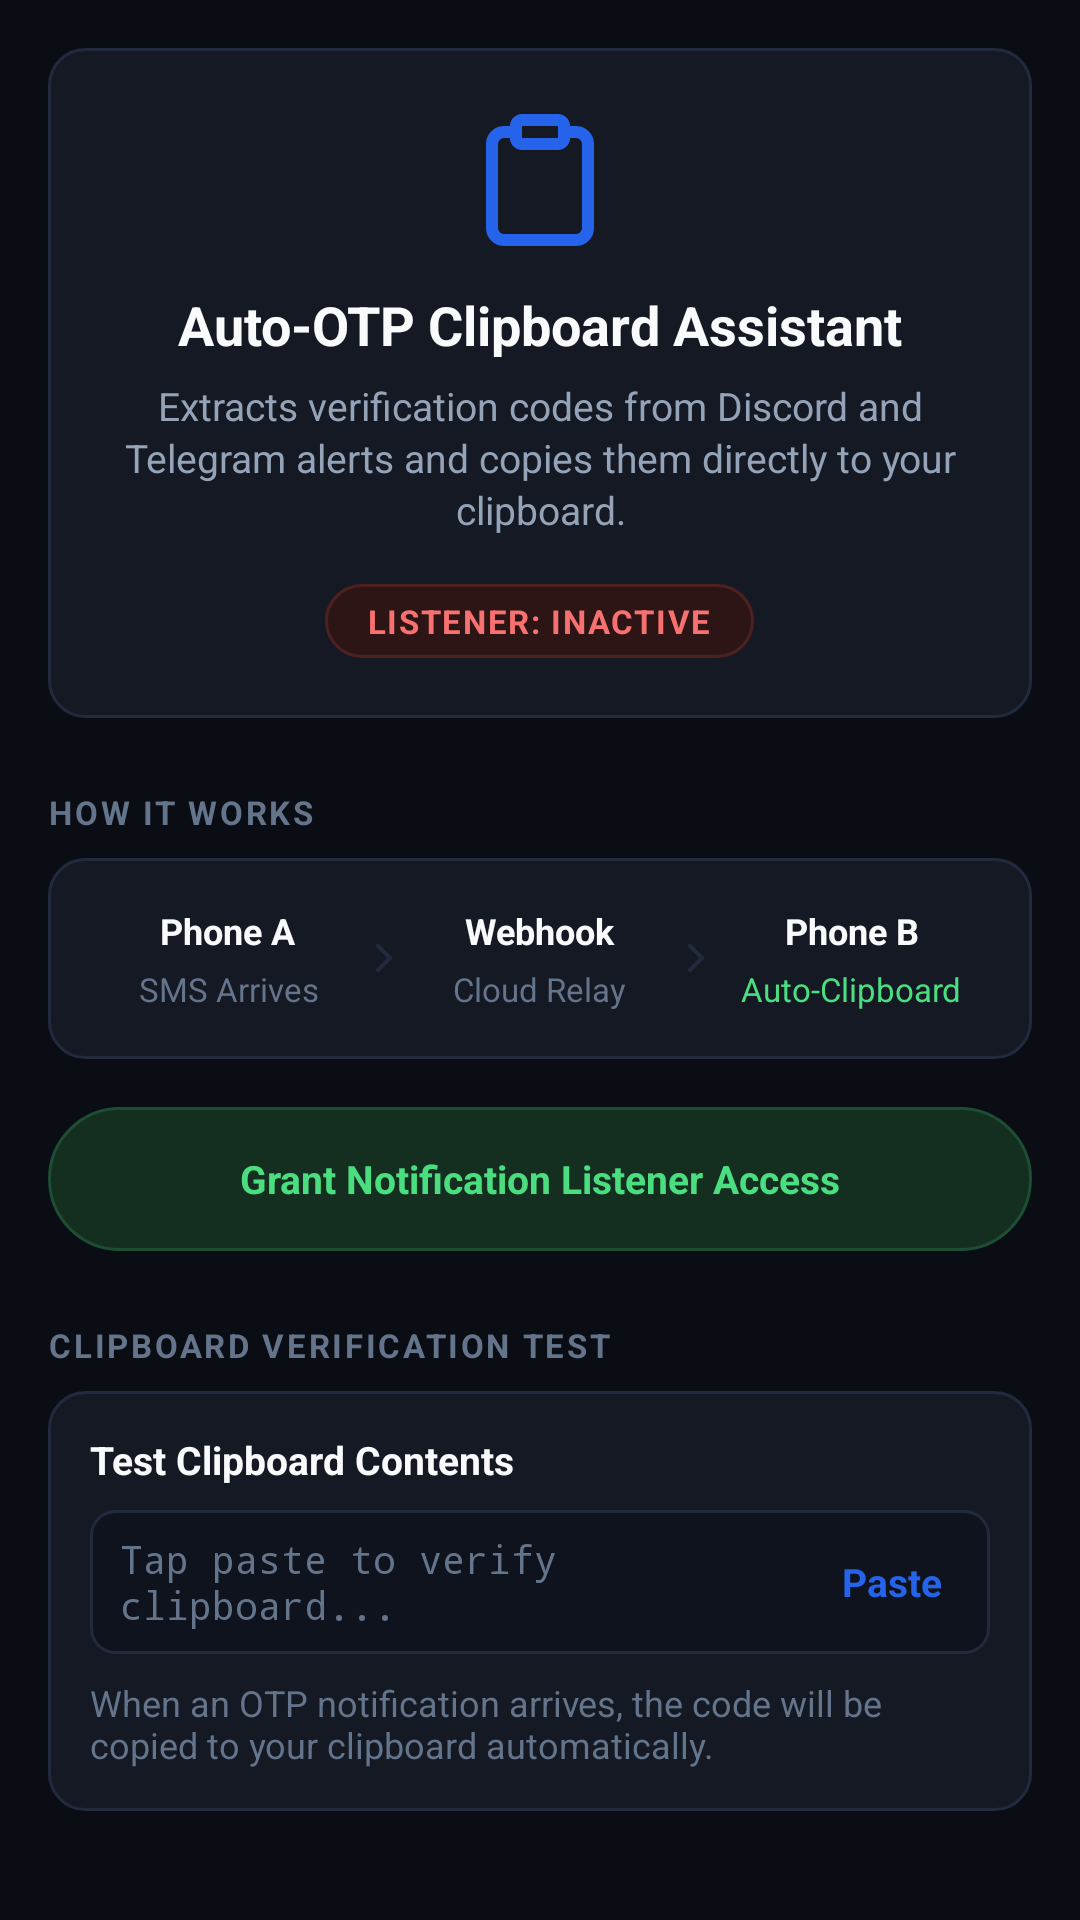

Screen size 1080w x 1920h. Icon name, then its box in pixels as [x1, y1, x2, y2]:
chevron right: [377, 944, 391, 972], [689, 944, 703, 972]
